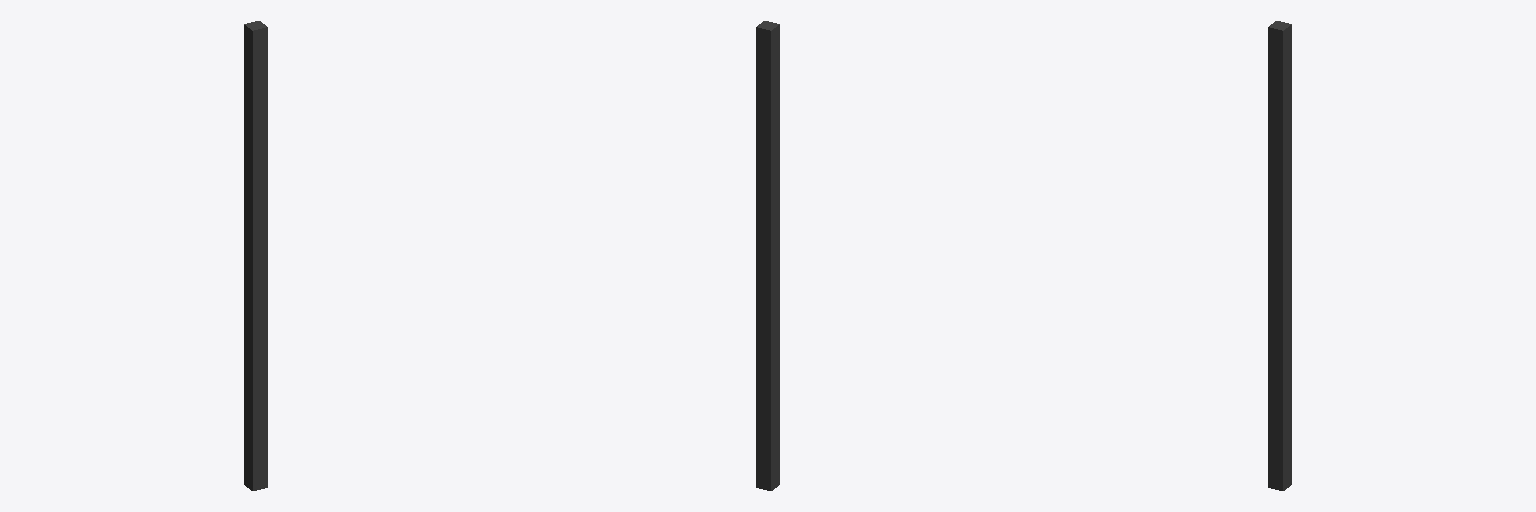
URDF robot description (box):
<?xml version='1.0' encoding='UTF-8'?>
<robot name="box">
    <link name="base_link">
        <inertial>
            <origin xyz="0.0 0.0 0.0" rpy="0.0 -0.0 0.0"/>
                <mass value="1.0"/>
            <inertia ixx="1.0" ixy="0.0" ixz="0.0" iyy="1.0" iyz="0.0" izz="1.0"/>
        </inertial>
        <visual name="base_link_visual">
            <geometry>
                <box size="0.28 0.28 8"/>
            </geometry>
            <material name="base_link_color">
              <color rgba="0.3 0.3 0.3 1"/>
            </material>
            <origin xyz="0 0 0" rpy="0 0 0"/>
        </visual>
        <collision name="base_link_collision">
            <geometry>
                <box size="0.28 0.28 8"/>
            </geometry>
            <origin xyz="0 0 0" rpy="0 0 0"/>
        </collision>
    </link>
</robot>

--- Render facts (derived) ---
Views: 3 orthographic renders of the robot side by side, from view 1: azimuth 30°, elevation 25°; view 2: azimuth 150°, elevation 25°; view 3: azimuth 330°, elevation 25°.
Robot: box — 1 links, 0 joints (none); root link base_link; default pose: all joints at 0.
Visible links, largest first — view 1: base_link; view 2: base_link; view 3: base_link.
Boxes of the visible links, x1,y1,x2,y2 form: base_link: (244,21,267,490); base_link: (756,21,779,490); base_link: (1268,21,1291,490).
Size in the robot's own frame: 0.28 by 0.28 by 8 metres.
Geometry: primitives only (box / cylinder / sphere), no mesh files.